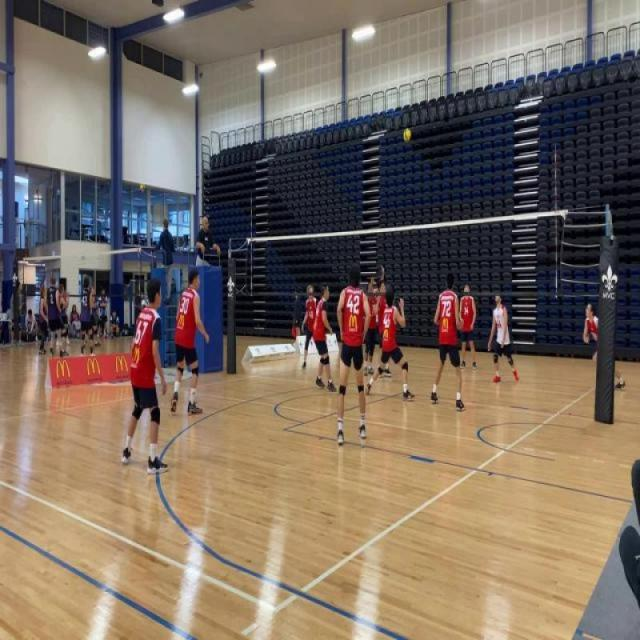volleyball: (402, 126, 414, 144), (139, 181, 146, 193)
